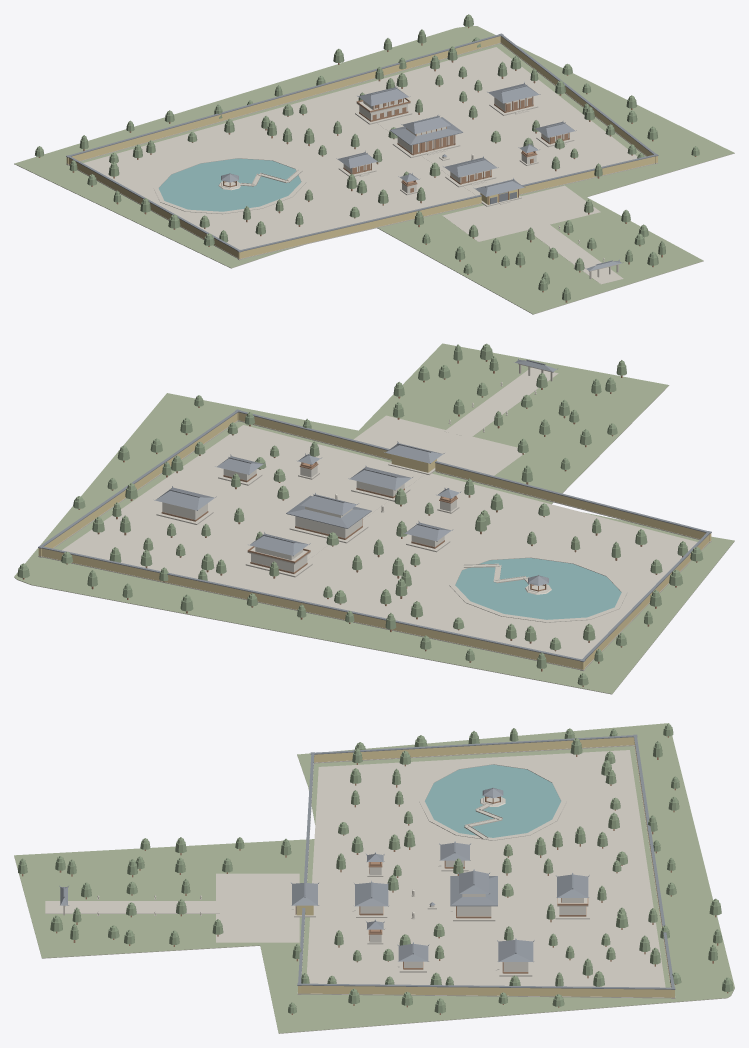
File: xiyuansi.glb
3 views of the same model, one above another, from view 1: azimuth 30°, elevation 25°; view 2: azimuth 150°, elevation 25°; view 3: azimuth 270°, elevation 25° (orthographic). The views are drawn at different scales.
Visible parts, largest first — view 1: xiyuansi_stone, xiyuansi_grass, xiyuansi_leaf, xiyuansi_tile, xiyuansi_wall_yellow, xiyuansi_water, xiyuansi_wood, xiyuansi_wall_hall; view 2: xiyuansi_stone, xiyuansi_grass, xiyuansi_leaf, xiyuansi_wall_yellow, xiyuansi_tile, xiyuansi_water, xiyuansi_wall_hall, xiyuansi_wood; view 3: xiyuansi_stone, xiyuansi_grass, xiyuansi_leaf, xiyuansi_tile, xiyuansi_water, xiyuansi_wall_yellow, xiyuansi_wall_hall, xiyuansi_wood.
Boxes of the visible parts, <box> form: xiyuansi_stone: <box>14,42,734,314</box>; xiyuansi_grass: <box>14,26,734,314</box>; xiyuansi_leaf: <box>35,14,699,300</box>; xiyuansi_tile: <box>66,33,658,271</box>; xiyuansi_wall_yellow: <box>66,36,657,258</box>; xiyuansi_water: <box>158,158,301,211</box>; xiyuansi_wood: <box>38,27,696,302</box>; xiyuansi_wall_hall: <box>343,96,568,193</box>; xiyuansi_stone: <box>14,363,734,694</box>; xiyuansi_grass: <box>14,343,734,693</box>; xiyuansi_leaf: <box>17,343,703,685</box>; xiyuansi_wall_yellow: <box>38,412,711,669</box>; xiyuansi_tile: <box>38,358,711,662</box>; xiyuansi_water: <box>455,558,621,619</box>; xiyuansi_wall_hall: <box>162,465,456,572</box>; xiyuansi_wood: <box>22,360,697,686</box>; xiyuansi_stone: <box>14,745,734,1033</box>; xiyuansi_grass: <box>14,723,734,1033</box>; xiyuansi_leaf: <box>18,723,733,1013</box>; xiyuansi_tile: <box>59,734,675,989</box>; xiyuansi_water: <box>425,764,561,837</box>; xiyuansi_wall_yellow: <box>296,737,674,997</box>; xiyuansi_wall_hall: <box>360,860,585,971</box>; xiyuansi_wood: <box>22,736,728,1014</box>.
Bounding box in the file's own units: 387 × 18.2 × 380.
